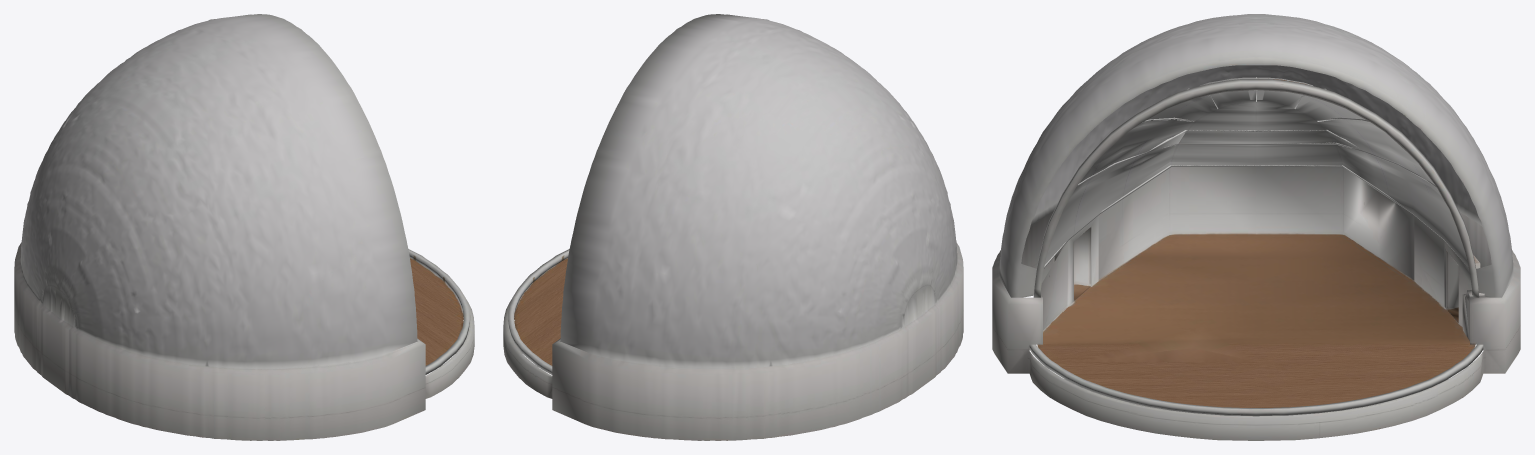
The model's file is bandshell.glb.
3 views of the same model, side by side, from view 1: azimuth 30°, elevation 25°; view 2: azimuth 150°, elevation 25°; view 3: azimuth 270°, elevation 25° (orthographic). The views are drawn at different scales.
Visible parts, largest first — view 1: tripo_node_eff3f64f-8f80-490e-891b-257e483a36f1; view 2: tripo_node_eff3f64f-8f80-490e-891b-257e483a36f1; view 3: tripo_node_eff3f64f-8f80-490e-891b-257e483a36f1.
Part boxes in pixels (x1,y1,x2,y2): tripo_node_eff3f64f-8f80-490e-891b-257e483a36f1: (14, 14, 474, 440); tripo_node_eff3f64f-8f80-490e-891b-257e483a36f1: (503, 14, 963, 440); tripo_node_eff3f64f-8f80-490e-891b-257e483a36f1: (992, 14, 1520, 440).
Bounding box in the file's own units: 0.8848 × 0.6582 × 0.998.
Materials: 1 (1 with a texture image).
